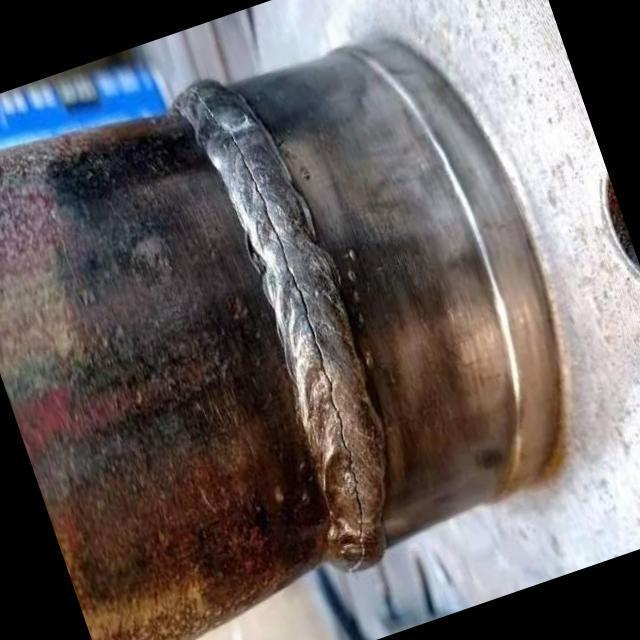defect: (188, 86, 367, 576)
